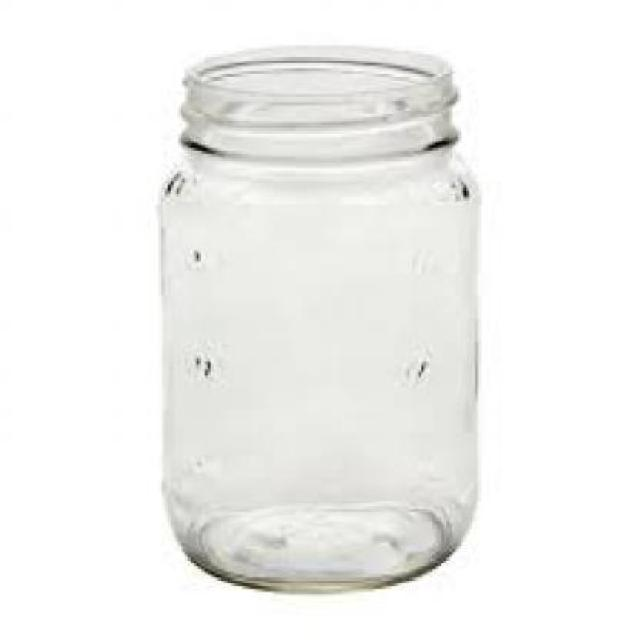kaca: (160, 43, 478, 589)
